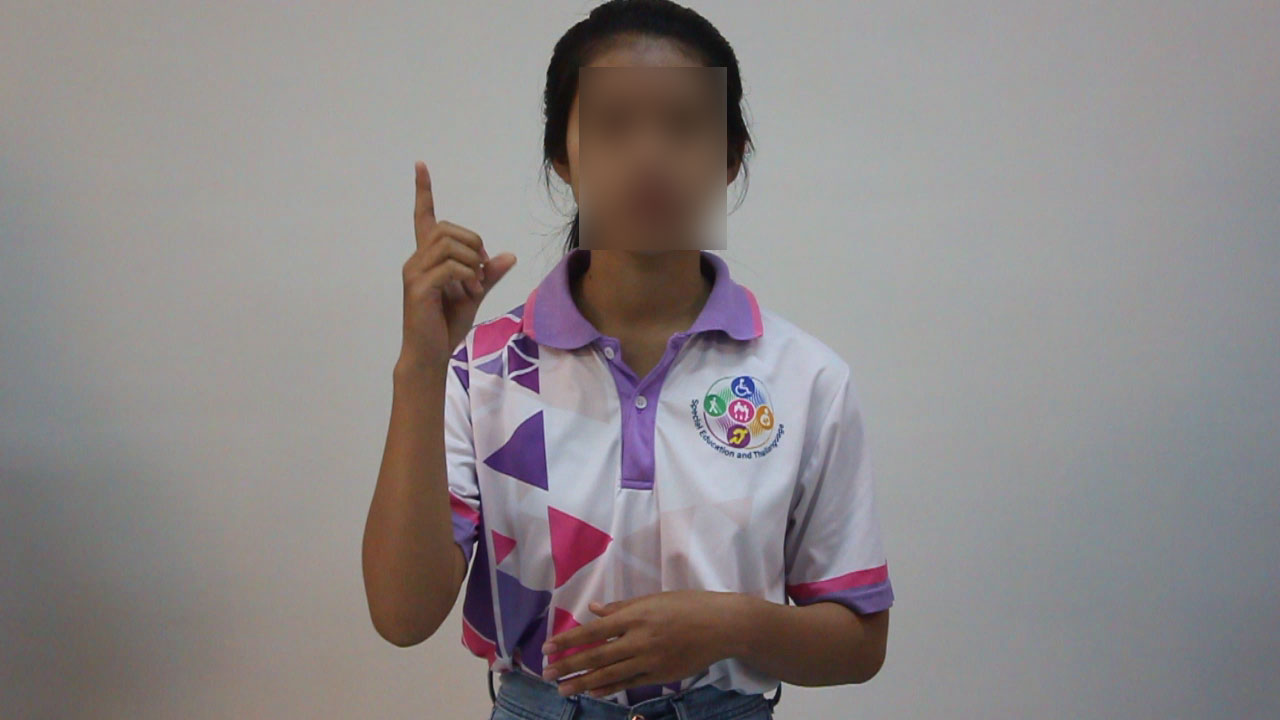dor: (392, 149, 523, 368)
